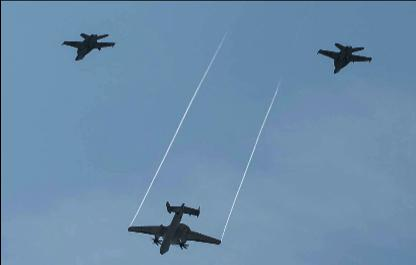C5: (127, 202, 220, 254)
F15: (315, 43, 370, 73), (60, 33, 114, 60)
